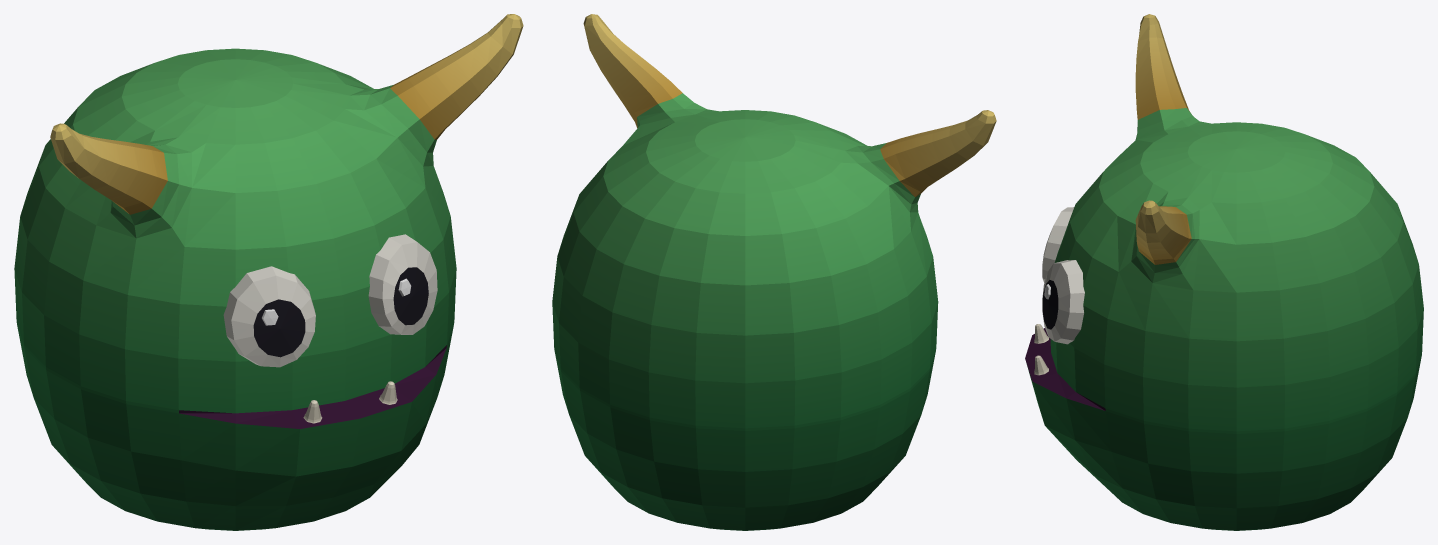
Rendered from GreenDemon.glb.
3 views of the same model, side by side, from view 1: azimuth 30°, elevation 25°; view 2: azimuth 150°, elevation 25°; view 3: azimuth 270°, elevation 25° (orthographic). The views are drawn at different scales.
Visible parts, largest first — view 1: Crypt_GreenDemon; view 2: Crypt_GreenDemon; view 3: Crypt_GreenDemon.
Part boxes in pixels (box(x1,y1,x2,y2)): Crypt_GreenDemon: box(14, 14, 523, 530); Crypt_GreenDemon: box(552, 14, 996, 530); Crypt_GreenDemon: box(1025, 14, 1423, 530).
Size of the model in its own units: 1.73 by 1.62 by 1.5.
